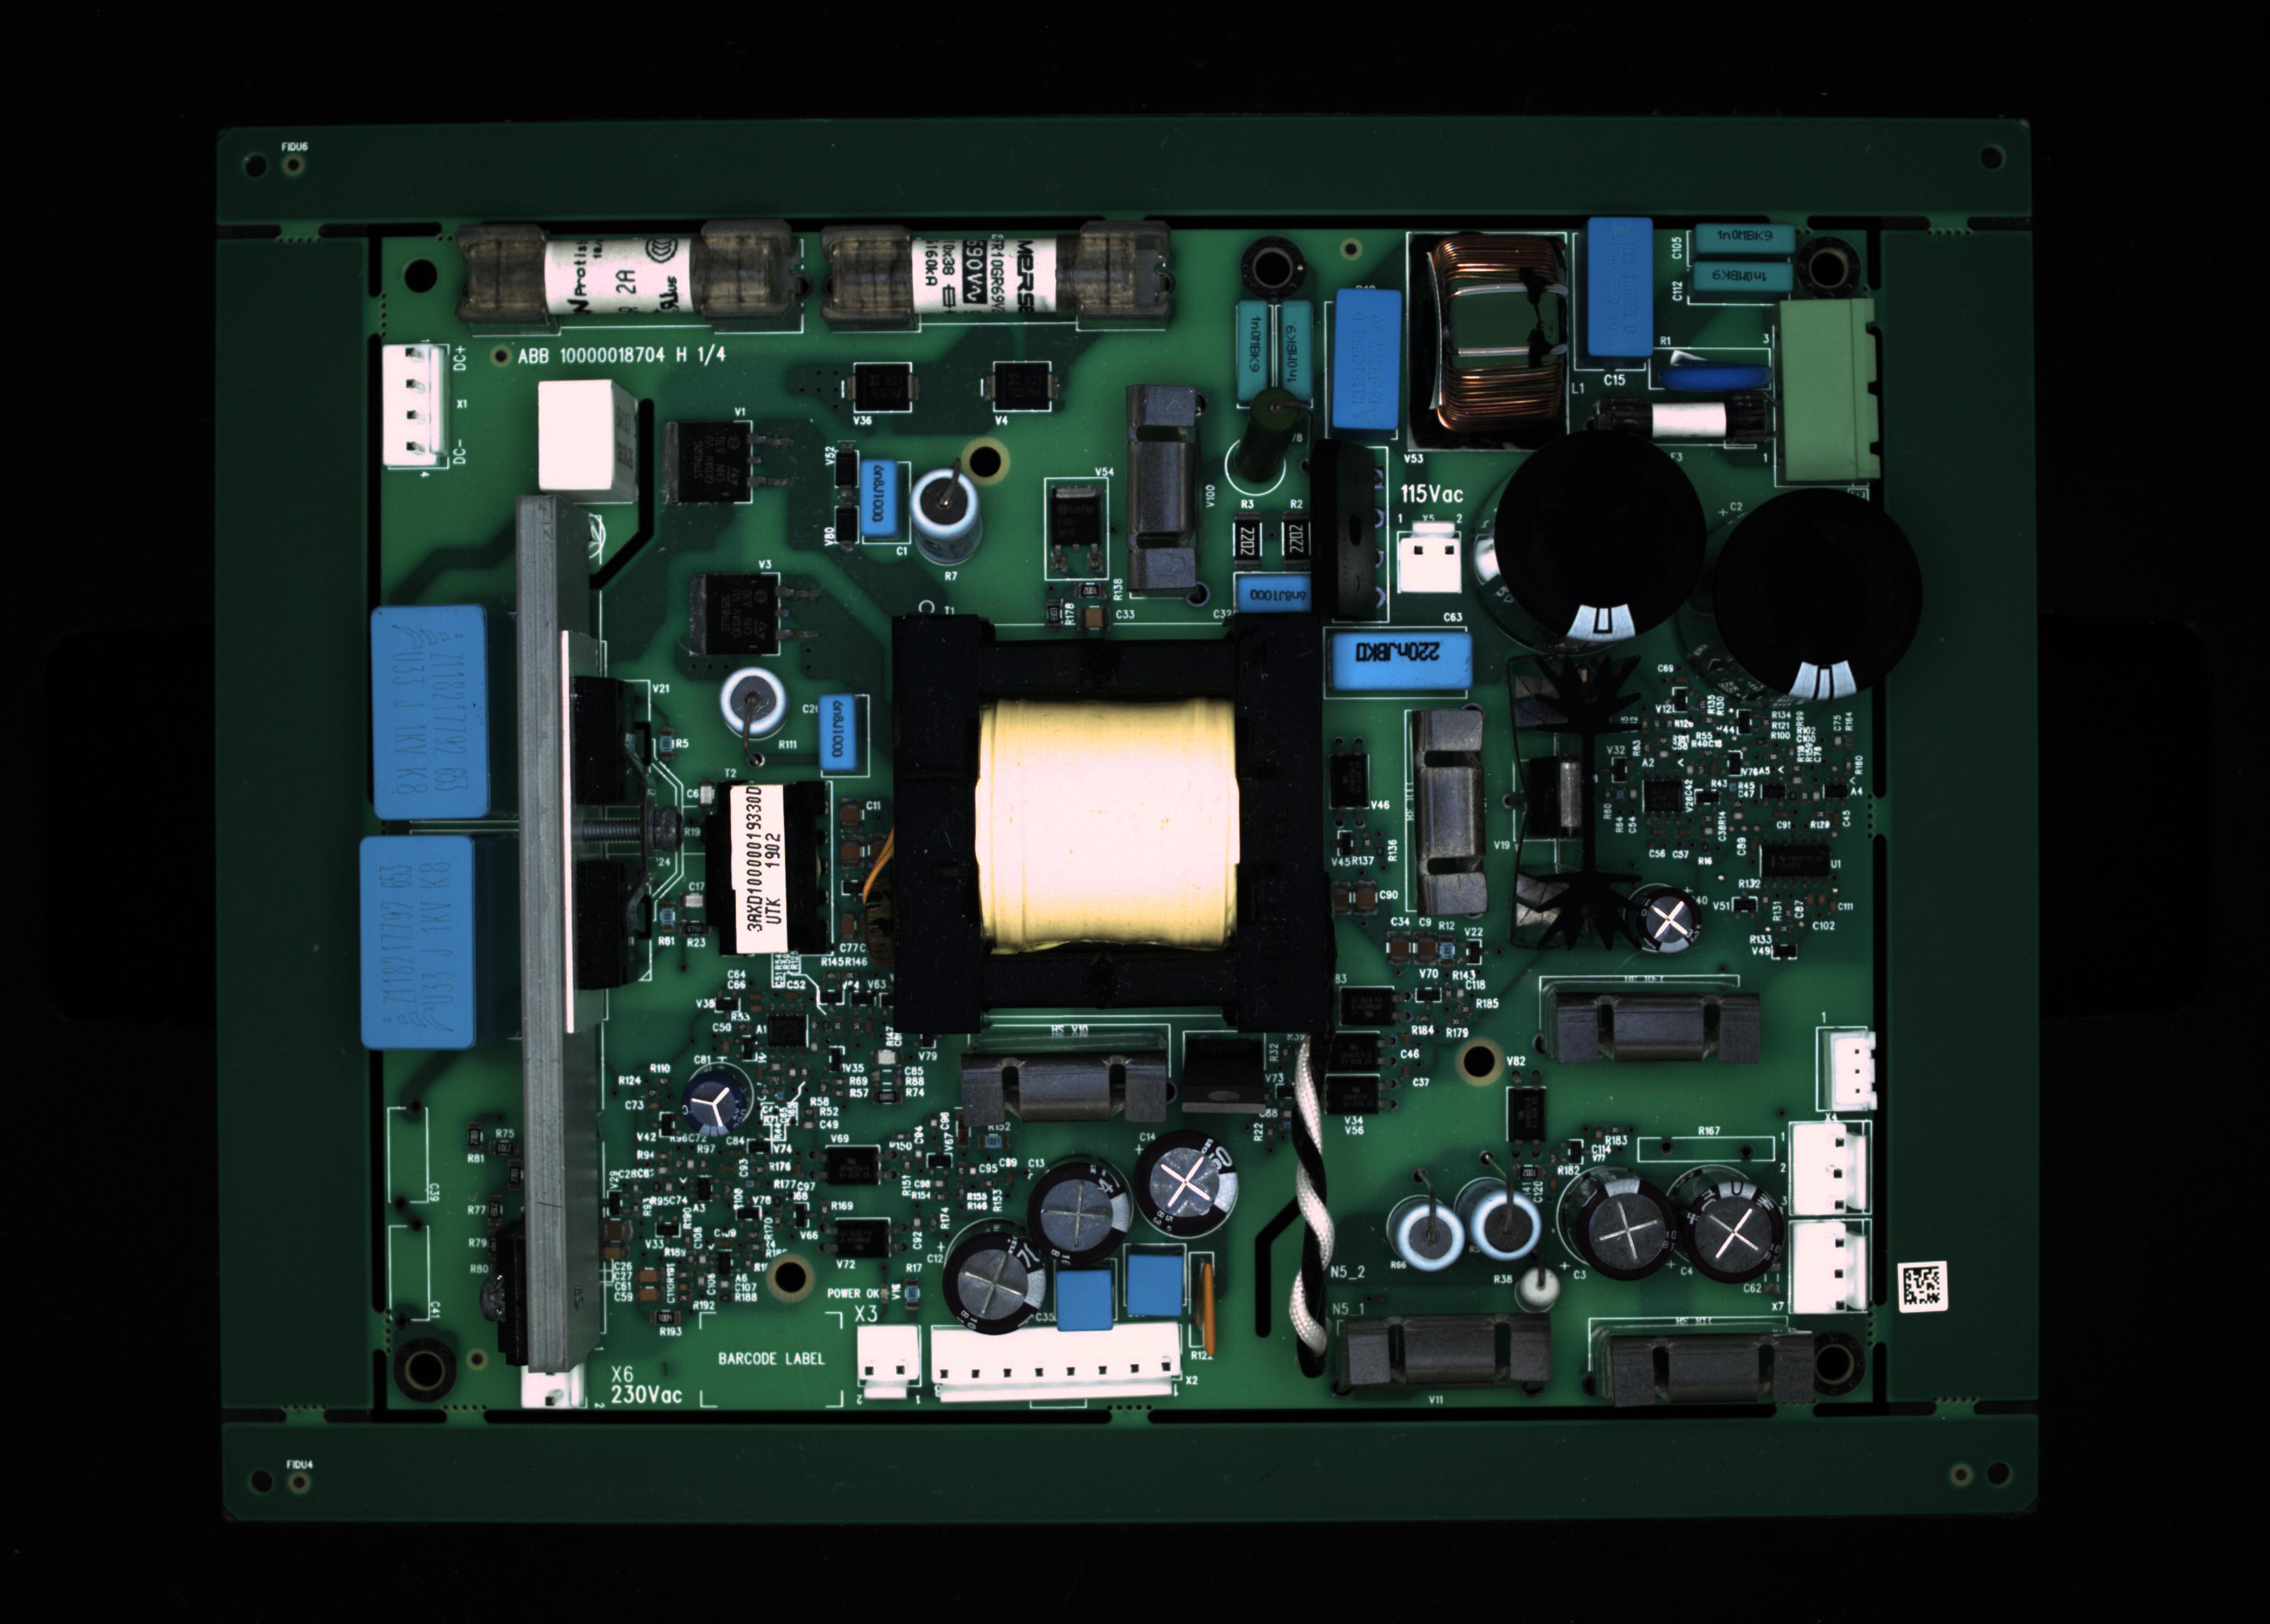10_p: (1648, 346, 1772, 394)
11_q: (1778, 297, 1878, 483)
12_r: (1591, 387, 1776, 455)
13_s: (382, 343, 447, 464)
14_t: (538, 380, 614, 490)
15_e: (856, 459, 899, 534)
16_k: (913, 466, 979, 564)
17_u: (1127, 385, 1206, 608)
18_v: (1234, 569, 1312, 615)
19_w: (1333, 627, 1472, 692)
1_a: (455, 223, 807, 336)
20_f: (1393, 517, 1470, 599)
21_g: (1493, 431, 1709, 642)
22_g: (1716, 485, 1922, 701)
23_h: (371, 606, 485, 821)
24_h: (362, 837, 473, 1048)
25_f: (520, 1367, 584, 1410)
26_f: (856, 1323, 927, 1399)
27_x: (925, 1323, 1183, 1406)
28_i: (1129, 1127, 1240, 1239)
29_i: (1027, 1153, 1134, 1274)
2_a: (819, 225, 1171, 330)
30_i: (941, 1229, 1044, 1334)
31_j: (1055, 1267, 1115, 1330)
32_j: (1127, 1257, 1185, 1316)
33_e: (821, 694, 858, 770)
34_k: (1394, 1197, 1465, 1276)
35_k: (1470, 1186, 1542, 1264)
36_i: (1577, 1176, 1672, 1281)
37_i: (1683, 1179, 1786, 1283)
38_l: (1343, 1318, 1554, 1387)
39_l: (1602, 1330, 1815, 1406)
3_b: (1236, 299, 1268, 406)
40_l: (1547, 986, 1765, 1065)
41_y: (1407, 678, 1505, 919)
42_z: (1825, 1030, 1878, 1109)
43_m: (1792, 1120, 1871, 1216)
44_m: (1788, 1218, 1866, 1311)
45_i: (679, 1069, 749, 1137)
46_n: (1338, 982, 1412, 1028)
47_n: (811, 1142, 899, 1192)
48_n: (818, 1214, 911, 1265)
49_aa: (761, 1011, 814, 1056)
4_b: (1282, 299, 1313, 406)
50_n: (1321, 1030, 1391, 1070)
51_n: (1308, 1070, 1396, 1120)
52_ab: (1329, 740, 1377, 831)
54_ad: (1194, 1253, 1219, 1359)
55_l: (960, 1051, 1175, 1118)
56_ae: (1176, 1033, 1266, 1114)
57_af: (1509, 647, 1635, 951)
58_i: (1630, 884, 1700, 956)
59_o: (981, 359, 1060, 411)
5_c: (1336, 286, 1400, 425)
60_o: (848, 357, 918, 413)
6_6: (1405, 232, 1572, 452)
7_c: (1588, 216, 1653, 357)
8_d: (1695, 221, 1795, 255)
9_d: (1692, 262, 1793, 292)
